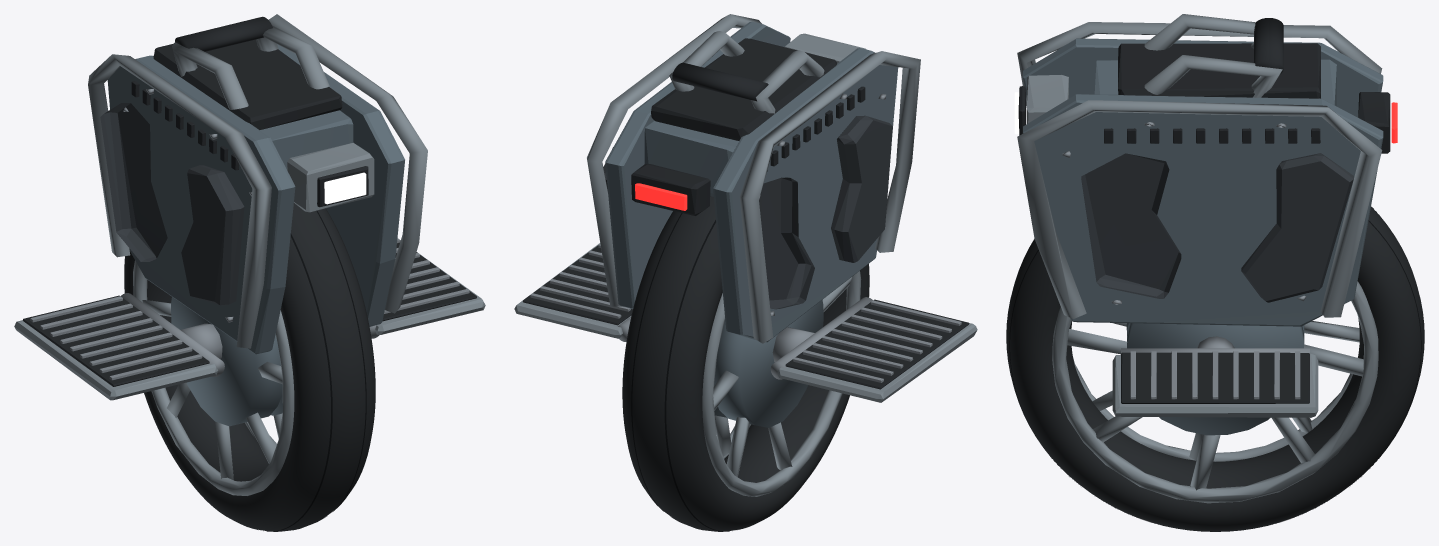
The model's file is DS_EUC_Compact.glb.
3 renders of one model, left to right at view 1: azimuth 30°, elevation 25°; view 2: azimuth 150°, elevation 25°; view 3: azimuth 270°, elevation 25°, orthographic. The views are drawn at different scales.
Parts seen in each view (by area): view 1: Tire_Road_Smooth, SideShell_-1, SideShell_1, CrashRail_-1, Top_Cushion, PowerPad_Front_-1, PowerPad_Rear_-1, Motor_Cover_-1, CrashRail_1, Pedal_Grip_-1, Rim_Ring_-1, Pedal_L_Pivot_Pedal_Ridge_Set (+16 smaller); view 2: Tire_Road_Smooth, SideShell_-1, CrashRail_-1, SideShell_1, Top_Cushion, PowerPad_Front_-1, Motor_Cover_-1, Pedal_Grip_-1, PowerPad_Rear_-1, CrashRail_1, Rim_Ring_-1, Pedal_L_Pivot_Pedal_Ridge_Set (+16 smaller); view 3: SideShell_1, Tire_Road_Smooth, CrashRail_1, PowerPad_Front_1, PowerPad_Rear_1, Rim_Ring_1, Top_Cushion, Pedal_Grip_1, Wheel_Pivot_Rim_Spoke_Set, SideShell_-1, Motor_Cover_1, CrashRail_-1 (+12 smaller).
Boxes of the visible parts, x1,y1,x2,y2 form: Tire_Road_Smooth: [124, 203, 375, 531]; SideShell_-1: [107, 55, 295, 354]; SideShell_1: [277, 44, 404, 326]; CrashRail_-1: [88, 54, 271, 348]; Top_Cushion: [153, 39, 342, 129]; PowerPad_Front_-1: [181, 165, 244, 305]; PowerPad_Rear_-1: [100, 103, 167, 261]; Motor_Cover_-1: [171, 297, 282, 426]; CrashRail_1: [268, 14, 427, 313]; Pedal_Grip_-1: [23, 295, 209, 386]; Rim_Ring_-1: [133, 260, 294, 495]; Pedal_L_Pivot_Pedal_Ridge_Set: [30, 296, 202, 380]; Tire_Road_Smooth: [622, 196, 869, 531]; SideShell_-1: [713, 48, 898, 342]; CrashRail_-1: [739, 51, 920, 343]; SideShell_1: [605, 21, 790, 309]; Top_Cushion: [651, 38, 836, 140]; PowerPad_Front_-1: [831, 115, 892, 262]; Motor_Cover_-1: [714, 300, 823, 427]; Pedal_Grip_-1: [785, 299, 969, 389]; PowerPad_Rear_-1: [759, 177, 814, 309]; CrashRail_1: [587, 14, 761, 306]; Rim_Ring_-1: [702, 271, 861, 496]; Pedal_L_Pivot_Pedal_Ridge_Set: [793, 300, 961, 382]; SideShell_1: [1023, 94, 1383, 326]; Tire_Road_Smooth: [1006, 206, 1424, 531]; CrashRail_1: [1017, 100, 1382, 318]; PowerPad_Front_1: [1081, 153, 1181, 298]; PowerPad_Rear_1: [1241, 153, 1353, 302]; Rim_Ring_1: [1052, 281, 1378, 503]; Top_Cushion: [1118, 43, 1320, 98]; Pedal_Grip_1: [1121, 352, 1309, 403]; Wheel_Pivot_Rim_Spoke_Set: [1067, 321, 1363, 490]; SideShell_-1: [1023, 38, 1383, 117]; Motor_Cover_1: [1127, 323, 1304, 435]; CrashRail_-1: [1017, 22, 1382, 107].
Size of the model in its own units: 0.5477 by 0.6581 by 0.509.
